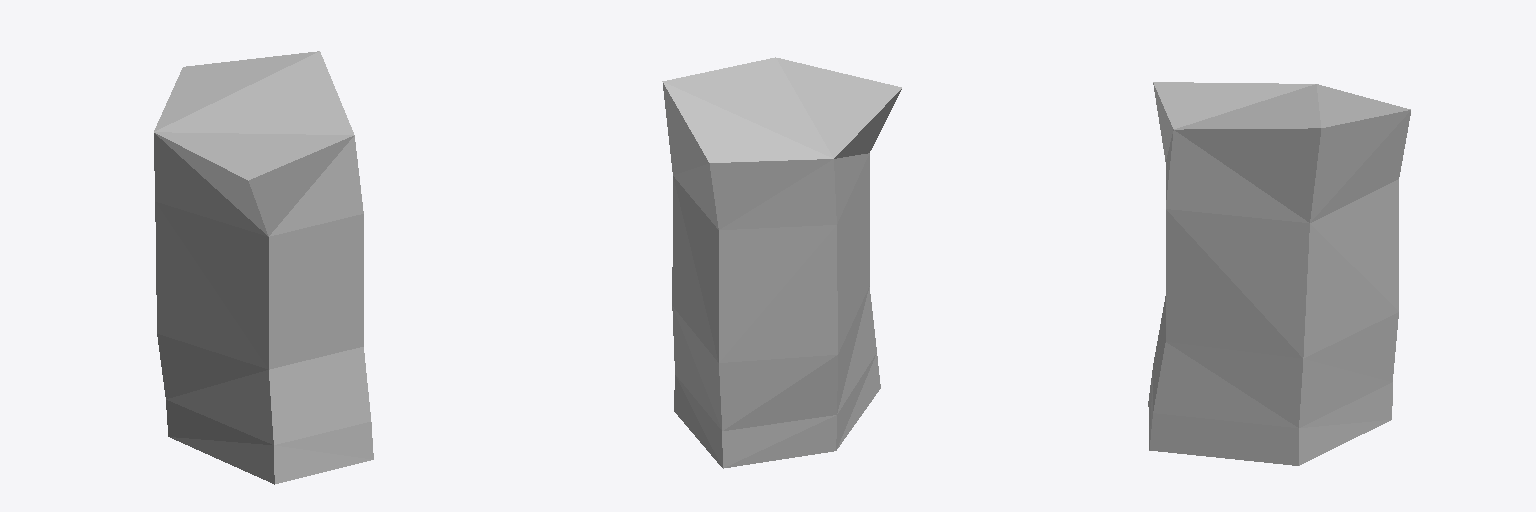
File: astronauta_reloded_leftlegtop.obj
The picture shows the model from 3 angles: view 1: azimuth 30°, elevation 25°; view 2: azimuth 150°, elevation 25°; view 3: azimuth 270°, elevation 25°; orthographic projection.
Visible parts, largest first — view 1: Astronauta_Cubo; view 2: Astronauta_Cubo; view 3: Astronauta_Cubo.
Boxes of the visible parts, box(x1,y1,x2,y2) form: Astronauta_Cubo: box(154, 51, 373, 484); Astronauta_Cubo: box(662, 57, 901, 468); Astronauta_Cubo: box(1148, 82, 1410, 465).
Size of the model in its own units: 0.1463 by 0.2786 by 0.1966.